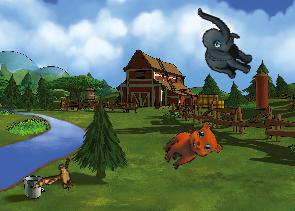bear: (157, 114, 227, 182)
eagle: (29, 148, 85, 207)
elephant: (180, 7, 264, 83)
